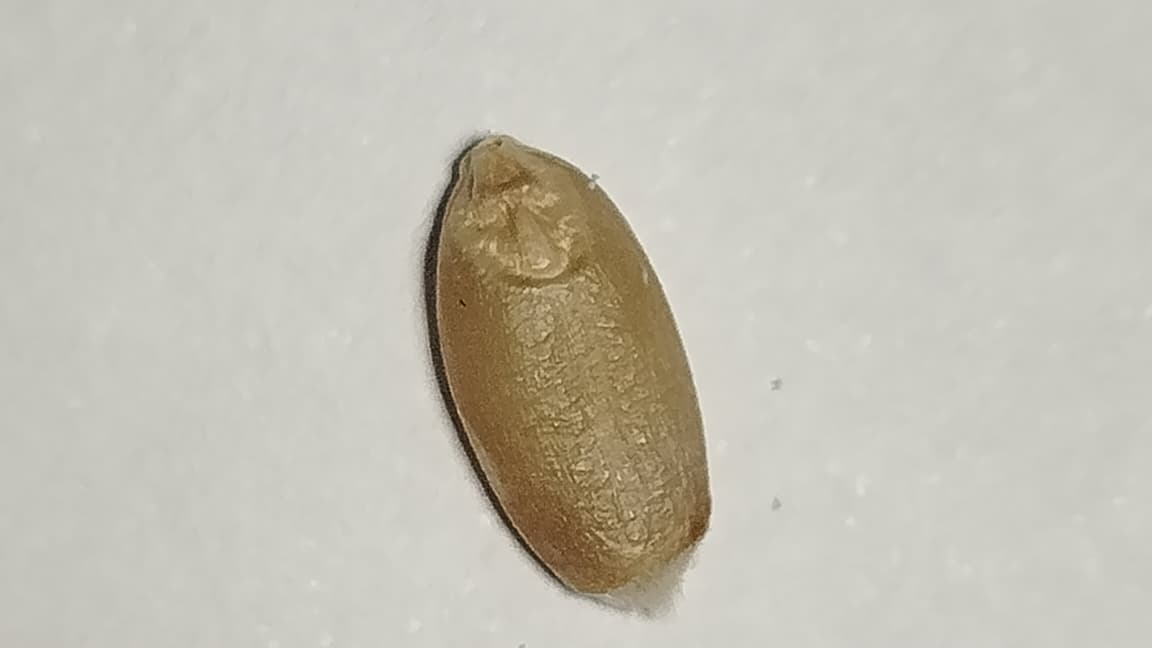healthy: (436, 134, 711, 613)
